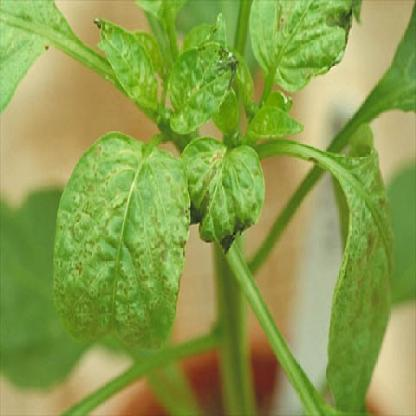bell pepper leaf spot: (51, 117, 190, 368), (317, 125, 393, 415), (180, 135, 269, 268), (249, 1, 357, 94), (90, 16, 163, 124), (166, 39, 240, 143)
